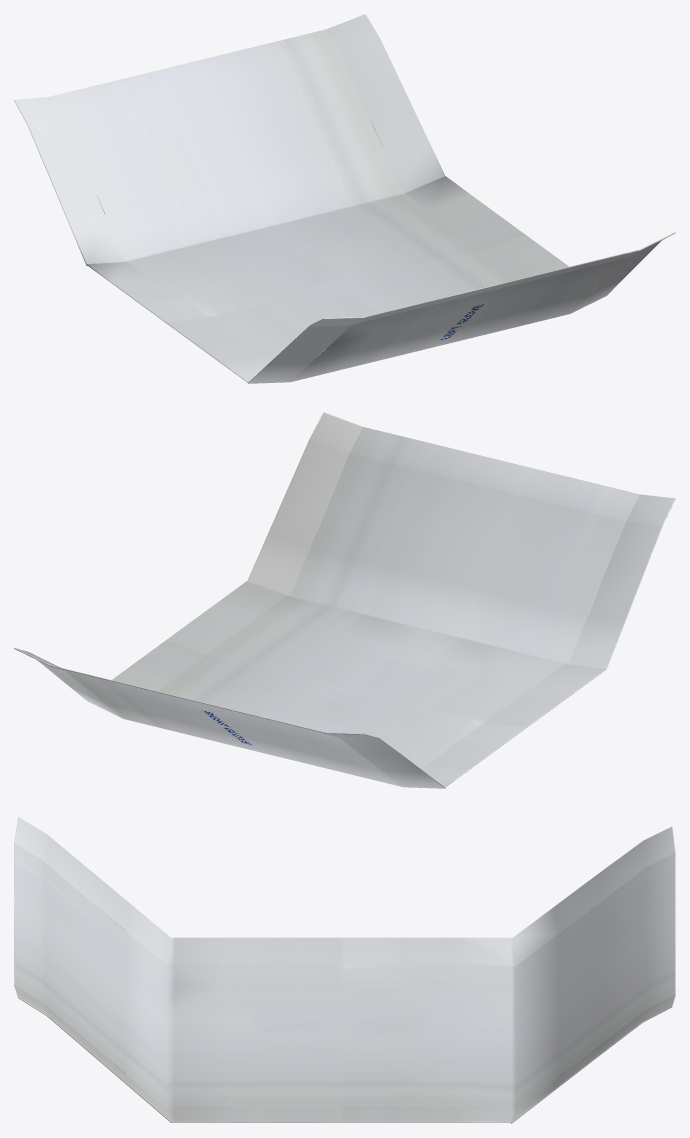
Rendered from Open Gloves_New1.glb.
3 views of the same model, one above another, from view 1: azimuth 30°, elevation 25°; view 2: azimuth 150°, elevation 25°; view 3: azimuth 270°, elevation 25° (orthographic). The views are drawn at different scales.
Visible parts, largest first — view 1: Gloves_Open.001; view 2: Gloves_Open.001; view 3: Gloves_Open.001.
Part boxes in pixels (x1=…): Gloves_Open.001: x1=14, y1=14, x2=675, y2=383; Gloves_Open.001: x1=14, y1=412, x2=675, y2=788; Gloves_Open.001: x1=14, y1=817, x2=675, y2=1123.
Bounding box in the file's own units: 0.2373 × 0.0789 × 0.359.
Materials: 1 (1 with a texture image).
